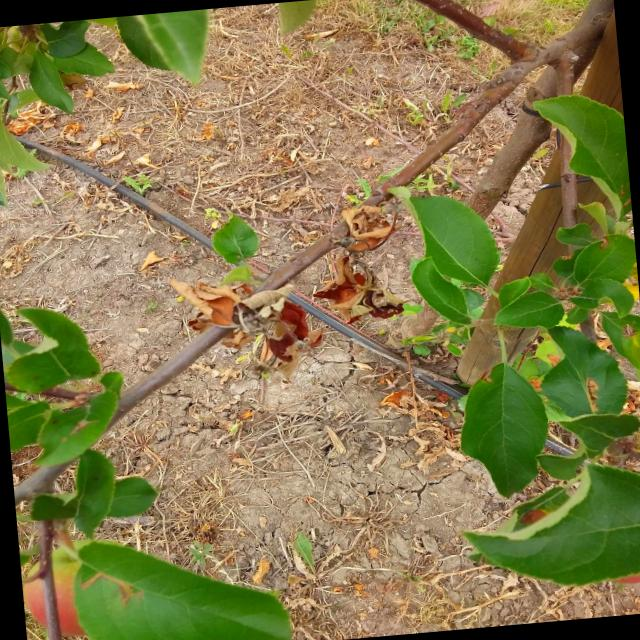-FireBlight-: (164, 264, 312, 377), (340, 199, 394, 251)
